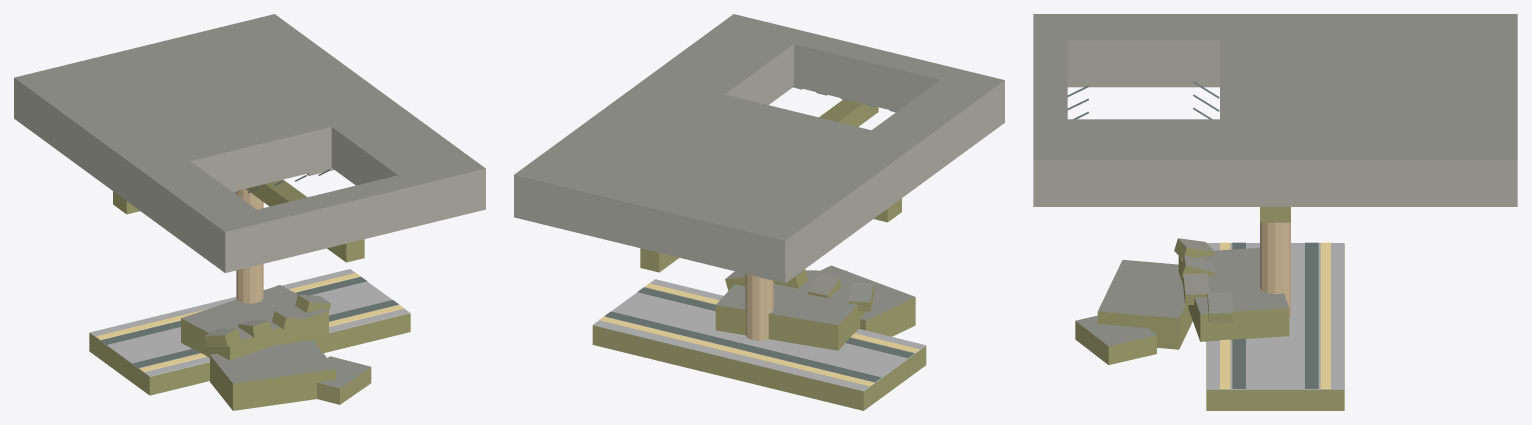
File: SM_AndenLosa_Central_v2_LosaRota_LOD0.fbx
The picture shows the model from 3 angles, left to right: view 1: azimuth 30°, elevation 25°; view 2: azimuth 150°, elevation 25°; view 3: azimuth 270°, elevation 25°; orthographic projection. The views are drawn at different scales.
Visible parts, largest first — view 1: Losa, SM_anden_losa_v2_LOD0; view 2: Losa, SM_anden_losa_v2_LOD0; view 3: Losa, SM_anden_losa_v2_LOD0.
Boxes of the visible parts, bbox=[...] form: Losa: bbox=[14, 14, 485, 272]; SM_anden_losa_v2_LOD0: bbox=[89, 189, 410, 410]; Losa: bbox=[514, 14, 1004, 283]; SM_anden_losa_v2_LOD0: bbox=[592, 265, 926, 410]; Losa: bbox=[1033, 14, 1517, 222]; SM_anden_losa_v2_LOD0: bbox=[1075, 222, 1344, 410].
Size of the model in its own units: 9.98 by 8 by 14.
